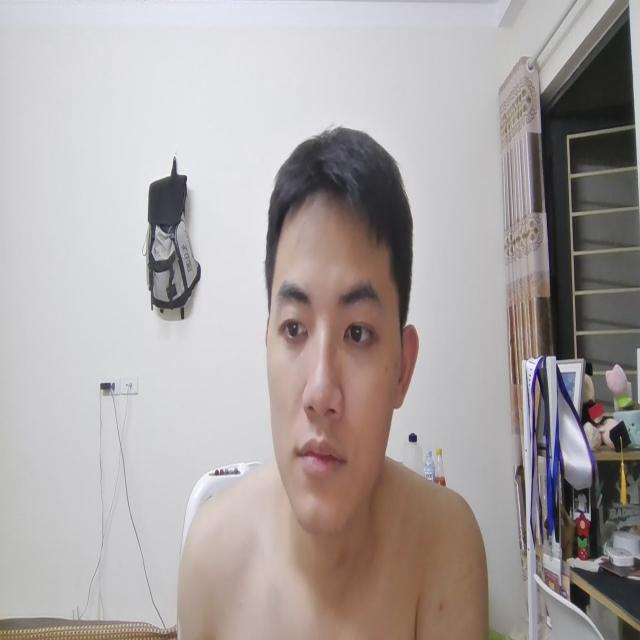student: (183, 120, 486, 640)
